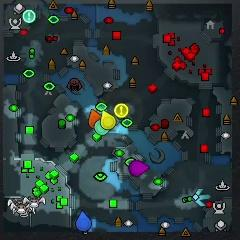Other: (113, 103, 129, 118), (22, 10, 36, 23)
p1: (75, 210, 92, 231)
p2: (95, 119, 110, 136)
p3: (130, 160, 149, 176)
p4: (100, 110, 116, 130)
p5: (89, 109, 103, 127)
x3: (194, 189, 211, 206)
